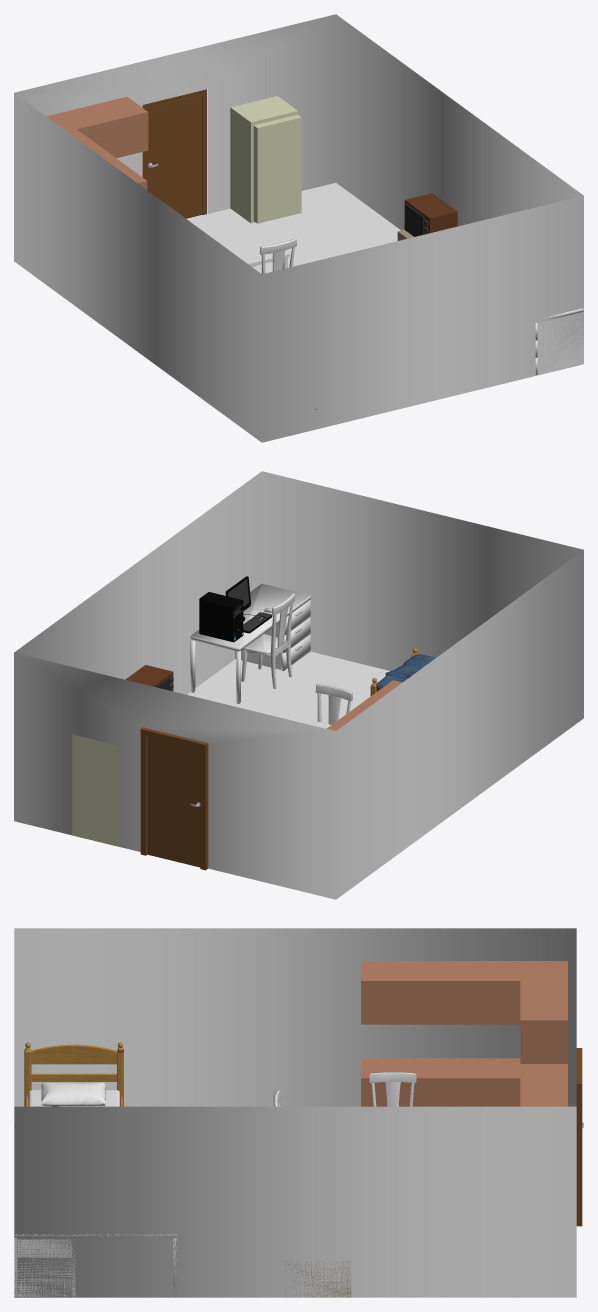
File: Room1.fbx
3 renders of one model, top to bottom at view 1: azimuth 30°, elevation 25°; view 2: azimuth 150°, elevation 25°; view 3: azimuth 270°, elevation 25°, orthographic. The views are drawn at different scales.
Visible parts, largest first — view 1: InnerWall, Floor, Door.001, Cube.005, Cube.011, Cube.004, Desk, DinningTable, Cube.015, DoorFrame, Chair.002; view 2: InnerWall, Floor, Door.001, Cube.004, Desk, DoorFrame, Cube.085, Chair.001, Chair.002, Blanket.001, Cube.011, Cube.015; view 3: InnerWall, Cube.011, Cube.048, Cube.052, DoorFrame, Chair, Drawer1.001, Cube.014, Drawer3.001, Desk, Cube.049, Drawer2.001 (+1 smaller).
Part boxes in pixels (x1,y1,x2,y2): InnerWall: (14,14,583,442); Floor: (187,183,400,273); Door.001: (146,95,202,218); Cube.005: (253,114,301,223); Cube.011: (46,96,148,189); Cube.004: (230,96,298,223); Desk: (537,308,583,374); DinningTable: (193,214,290,268); Cube.015: (404,193,457,236); DoorFrame: (142,89,206,214); Chair.002: (259,238,297,273); InnerWall: (14,471,583,899); Floor: (187,651,390,724); Door.001: (147,737,200,867); Cube.004: (72,734,119,846); Desk: (190,583,310,703); DoorFrame: (140,727,208,870); Cube.085: (199,592,243,642); Chair.001: (241,593,295,688); Chair.002: (315,684,352,724); Blanket.001: (376,654,435,691); Cube.011: (326,680,402,730); Cube.015: (125,665,173,691); InnerWall: (14,928,576,1297); Cube.011: (361,961,567,1106); Cube.048: (31,1044,116,1064); Cube.052: (41,1082,105,1106); DoorFrame: (576,1048,582,1226); Chair: (369,1072,416,1106); Drawer1.001: (17,1239,72,1257); Cube.014: (285,1260,351,1297); Drawer3.001: (17,1278,72,1296); Desk: (14,1234,176,1296); Cube.049: (31,1073,116,1081); Drawer2.001: (17,1258,72,1277).
Size of the model in its own units: 600 by 300 by 811.
30 materials, 2 textured.
